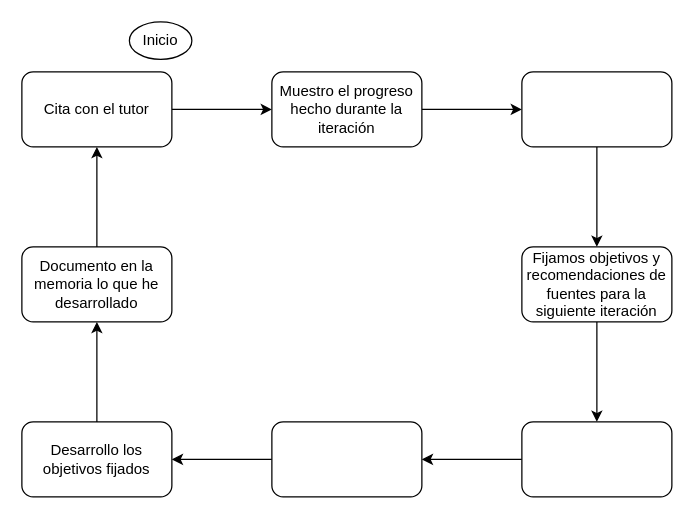
Image size: 694x519. Some labels were removed from this diagram. Each missing label, with the centre of its shape:
El tutor comenta las correcciones oportunas: the point at 596,109
Fijamos una fecha para la siguiente cita: the point at 596,459
Me documento con las recomendaciones: the point at 346,459
